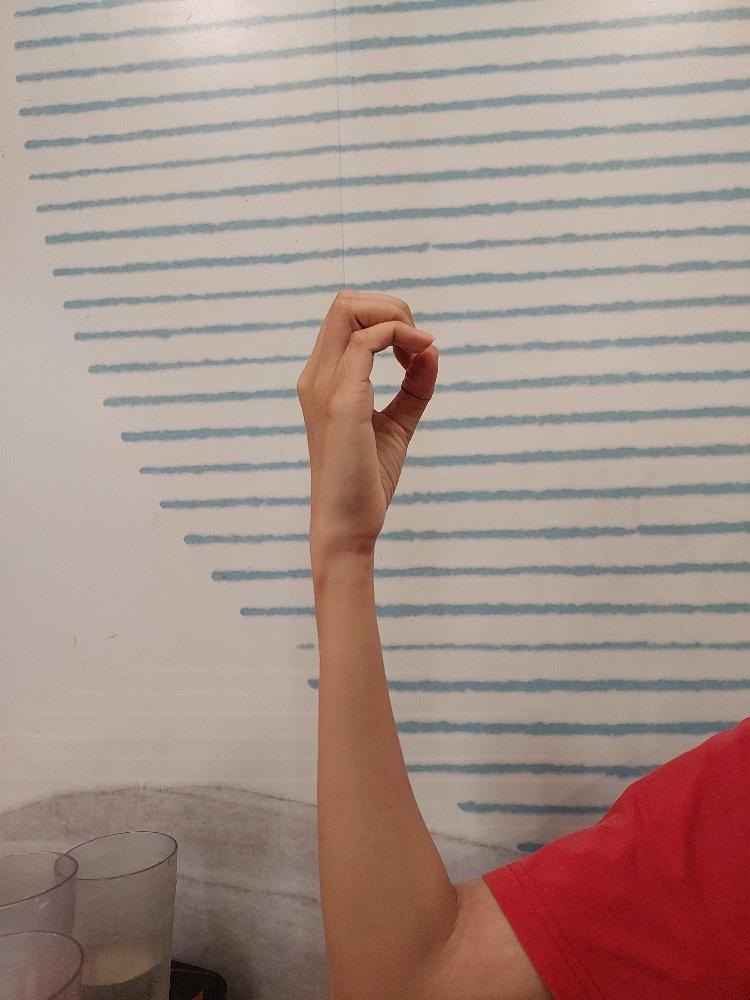o: (294, 284, 441, 552)
